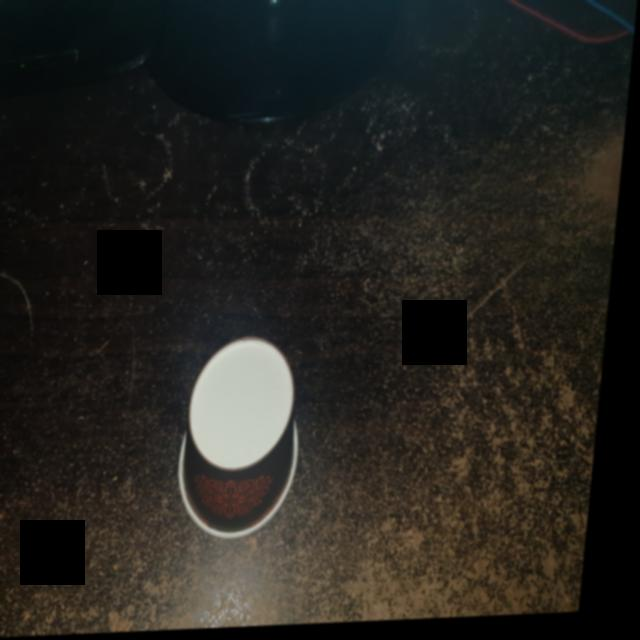cups: (178, 327, 323, 548)
